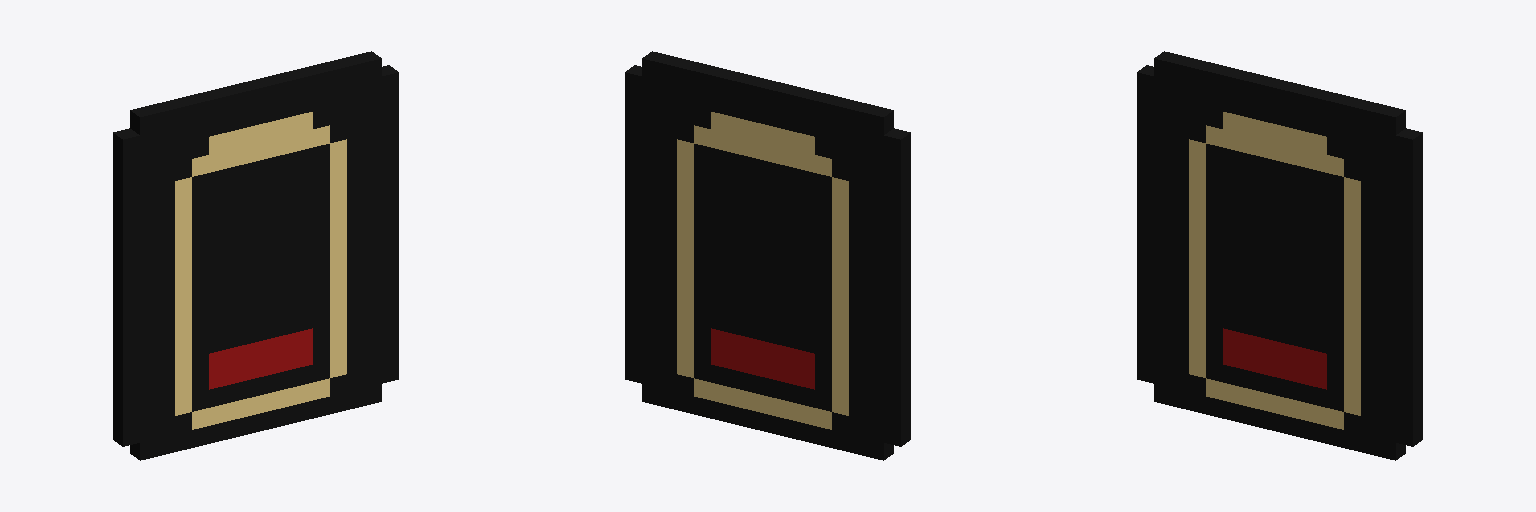
The picture shows the model from 3 angles: view 1: azimuth 30°, elevation 25°; view 2: azimuth 150°, elevation 25°; view 3: azimuth 330°, elevation 25°; orthographic projection.
Visible parts, largest first — view 1: object 1; view 2: object 1; view 3: object 1.
Boxes of the visible parts, x1=… form: object 1: x1=113, y1=51, x2=398, y2=460; object 1: x1=625, y1=51, x2=910, y2=460; object 1: x1=1137, y1=51, x2=1422, y2=460.
Bounding box in the file's own units: 1.6 × 1.9 × 0.1.
Materials: 1 (1 with a texture image).